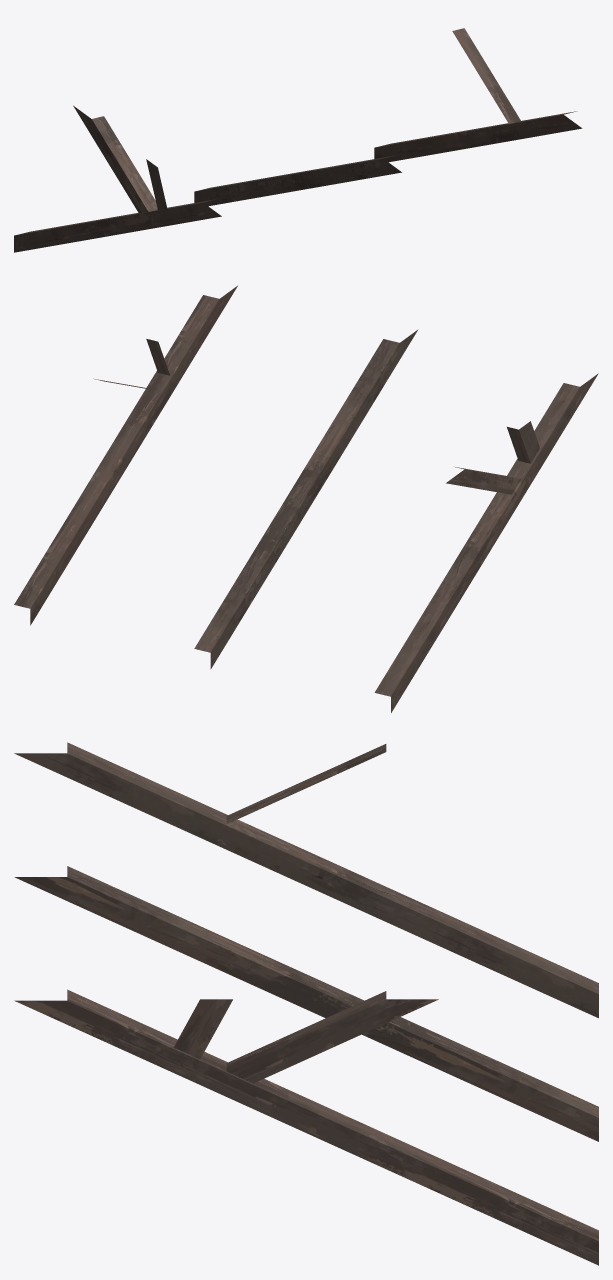
3 views of the same model, one above another, from view 1: azimuth 30°, elevation 25°; view 2: azimuth 150°, elevation 25°; view 3: azimuth 270°, elevation 25° (orthographic). The views are drawn at different scales.
Parts seen in each view (by area): view 1: body0_model0_lod0_mesh0; view 2: body0_model0_lod0_mesh0; view 3: body0_model0_lod0_mesh0.
Boxes of the visible parts, left/top/right/bottom form: body0_model0_lod0_mesh0: left=14, top=28, right=582, bottom=252; body0_model0_lod0_mesh0: left=14, top=285, right=598, bottom=712; body0_model0_lod0_mesh0: left=14, top=742, right=598, bottom=1265.
Bounding box in the file's own units: 368 × 176 × 352.
1 material, 1 textured.
